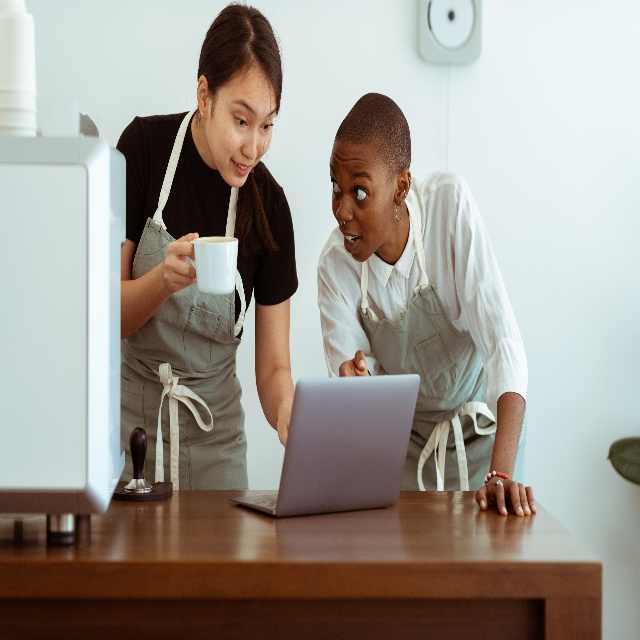Sin_guantes: (476, 473, 536, 520), (165, 228, 199, 294), (338, 348, 368, 377)
